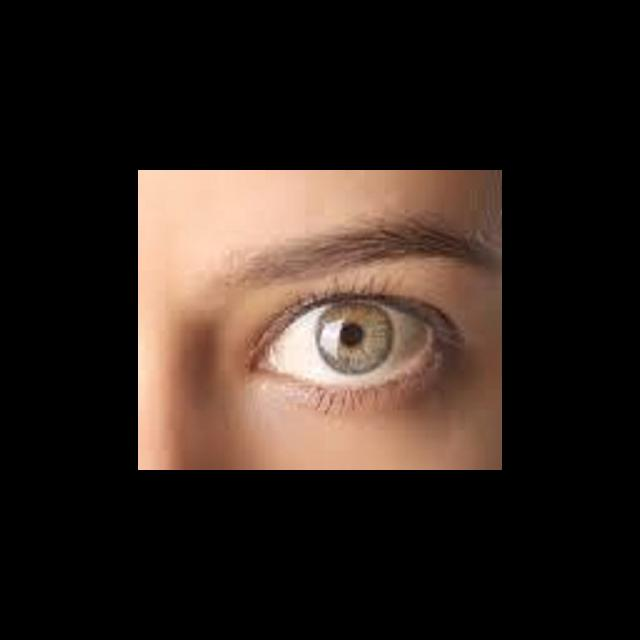eye: (266, 302, 431, 390)
iris: (312, 305, 396, 380)
